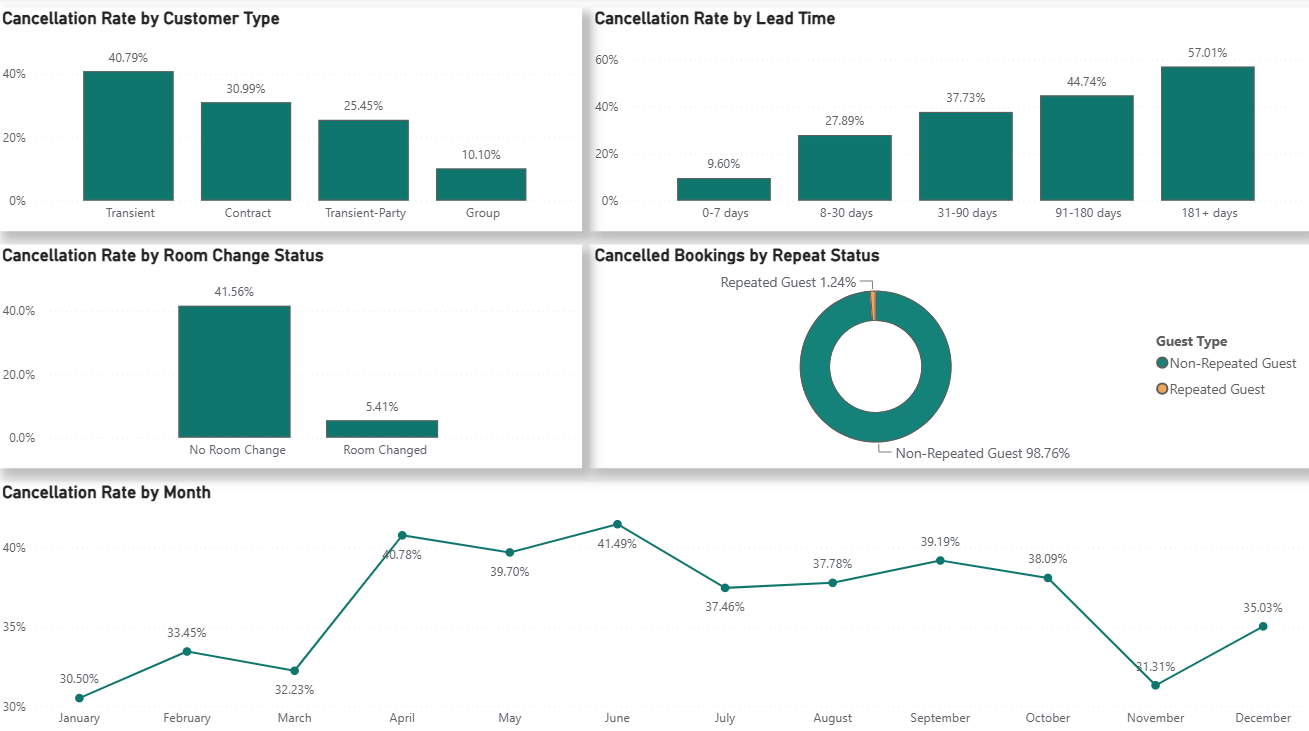

Layout of this report page (visuals, bound fields, positions):
{"tool":"powerbi","page":{"name":"Booking & Cancellation Analysis","canvas":[1280,720],"ordinal":1},"visuals":[{"type":"clusteredColumnChart","title":"Cancellation Rate by Lead Time","fields":{"Y":["_Measures.Cancellation Rate"],"Category":["hotel_bookings_cleaned.lead_time_category"]},"box":[577.3,10.2,703,217.8],"z":0},{"type":"clusteredColumnChart","title":"Cancellation Rate by Customer Type","fields":{"Y":["_Measures.Cancellation Rate"],"Category":["hotel_bookings_cleaned.customer_type"]},"box":[0,10.2,570,217.8],"z":1000},{"type":"lineChart","title":"Cancellation Rate by Month","fields":{"Category":["hotel_bookings_cleaned.arrival_date_month"],"Y":["_Measures.Cancellation Rate"]},"box":[0,472.1,1280.2,248.4],"z":2000},{"type":"donutChart","title":"Cancelled Bookings by Repeat Status","fields":{"Y":["_Measures.Cancelled Bookings"],"Category":["hotel_bookings_cleaned.Guest Type"]},"box":[577.3,241.1,703,217.8],"z":3000},{"type":"clusteredColumnChart","title":"Cancellation Rate by Room Change Status","fields":{"Category":["hotel_bookings_cleaned.Room Change Status"],"Y":["_Measures.Cancellation Rate"]},"box":[0,241.1,570,217.8],"z":4000}]}

Visuals, with their boxes in screenshot pixels (x1, y1, x2, y2), scaled from the page's 1280x720 canvas onto the 1309x731 screenshot:
"Cancellation Rate by Lead Time" clusteredColumnChart: box=[590, 10, 1308, 231]
"Cancellation Rate by Customer Type" clusteredColumnChart: box=[0, 10, 583, 231]
"Cancellation Rate by Month" lineChart: box=[0, 479, 1308, 730]
"Cancelled Bookings by Repeat Status" donutChart: box=[590, 245, 1308, 466]
"Cancellation Rate by Room Change Status" clusteredColumnChart: box=[0, 245, 583, 466]
